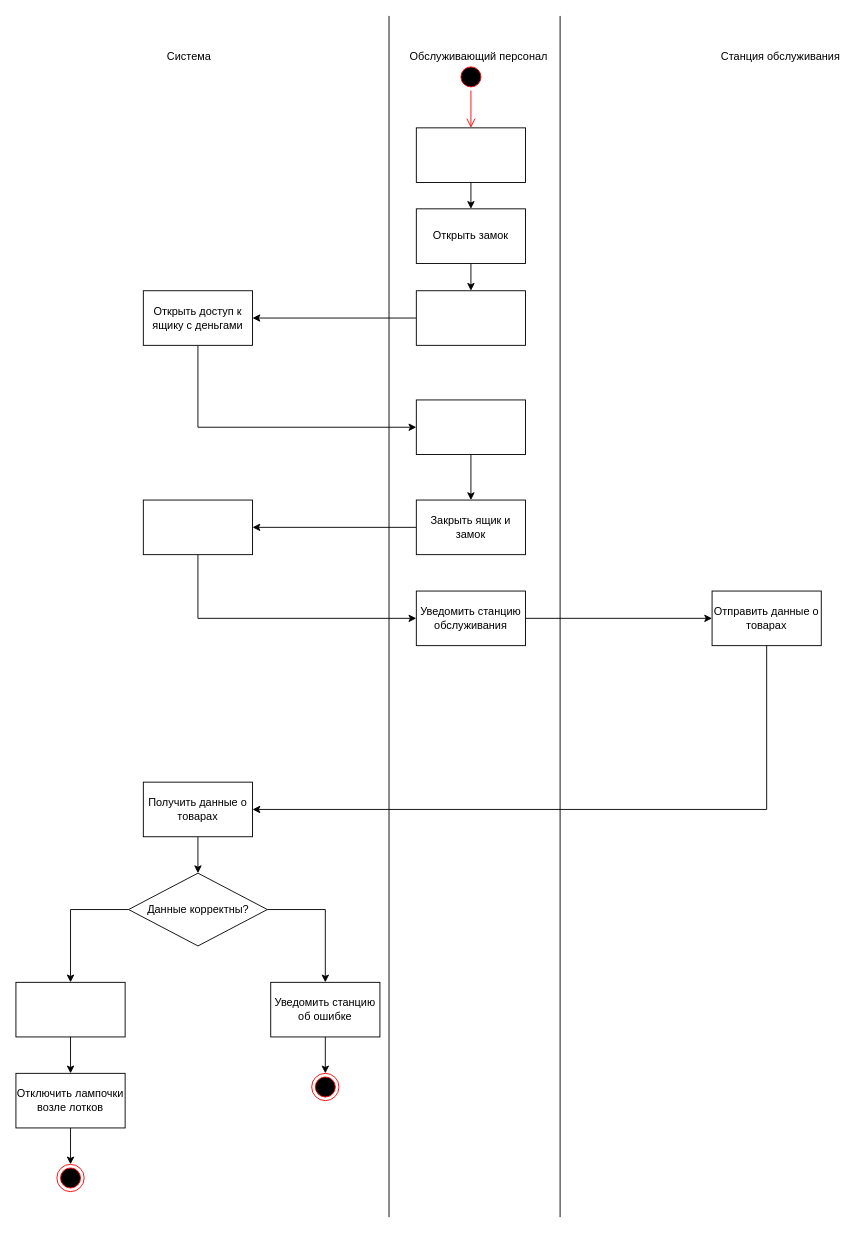
This 865x1234 diagram has some shape labels left out. Here are the shapes that lost their labels. From the top down, the centre of each, then its label:
At [470,154]: "Загрузить товар".
At [470,317]: "Нажать секретную кнопку".
At [470,427]: "Вынуть деньги".
At [197,527]: "Заблокировать доступ к ящику с деньгами".
At [70,1009]: "Обновить список товаров".
